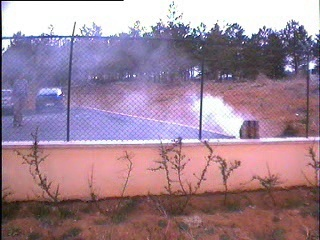smoke: (184, 85, 248, 139)
